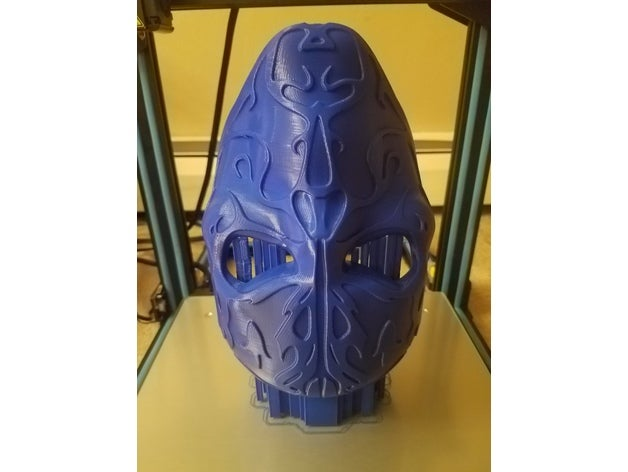Good: (187, 15, 444, 405)
